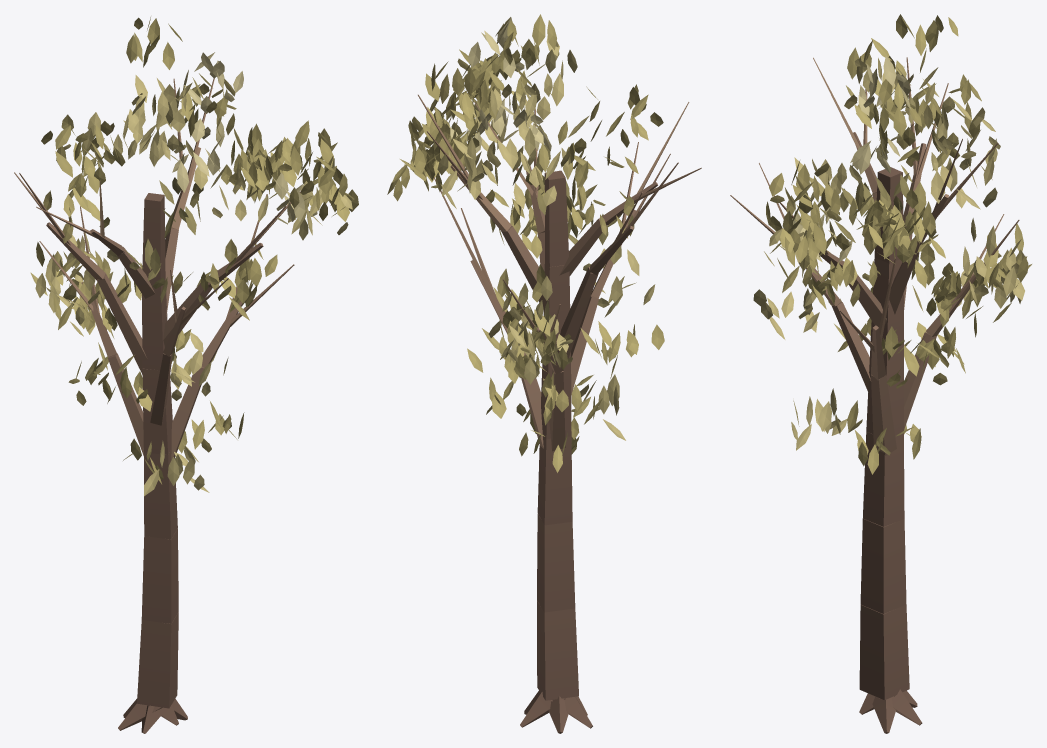
The model's file is tree_3d_02_yellow.glb.
3 views of the same model, side by side, from view 1: azimuth 30°, elevation 25°; view 2: azimuth 150°, elevation 25°; view 3: azimuth 270°, elevation 25° (orthographic). The views are drawn at different scales.
Parts seen in each view (by area): view 1: tree_3d_02_yellow_foliage, tree_3d_02_yellow_wood; view 2: tree_3d_02_yellow_foliage, tree_3d_02_yellow_wood; view 3: tree_3d_02_yellow_foliage, tree_3d_02_yellow_wood.
Part boxes in pixels (box(x1,y1,x2,y2)): tree_3d_02_yellow_foliage: box(30, 17, 358, 496); tree_3d_02_yellow_wood: box(14, 78, 301, 733); tree_3d_02_yellow_foliage: box(387, 14, 664, 472); tree_3d_02_yellow_wood: box(418, 94, 701, 733); tree_3d_02_yellow_foliage: box(753, 14, 1031, 474); tree_3d_02_yellow_wood: box(730, 57, 1019, 733).
Bounding box in the file's own units: 5.4 × 12.5 × 4.8.
